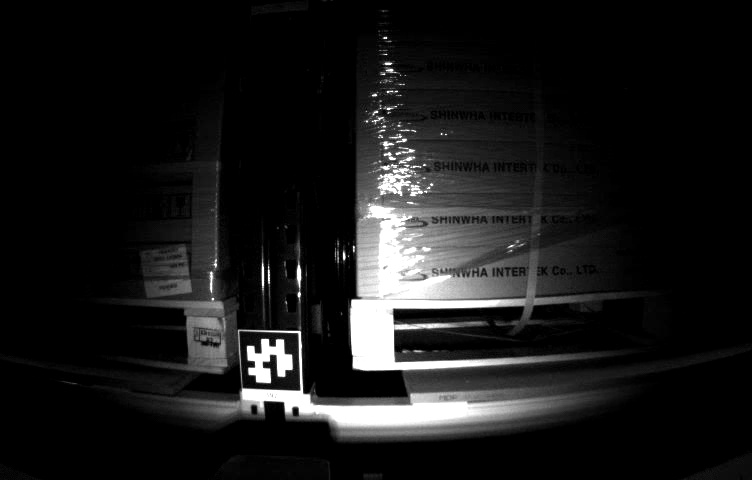True Barcode: (138, 247, 192, 296)
